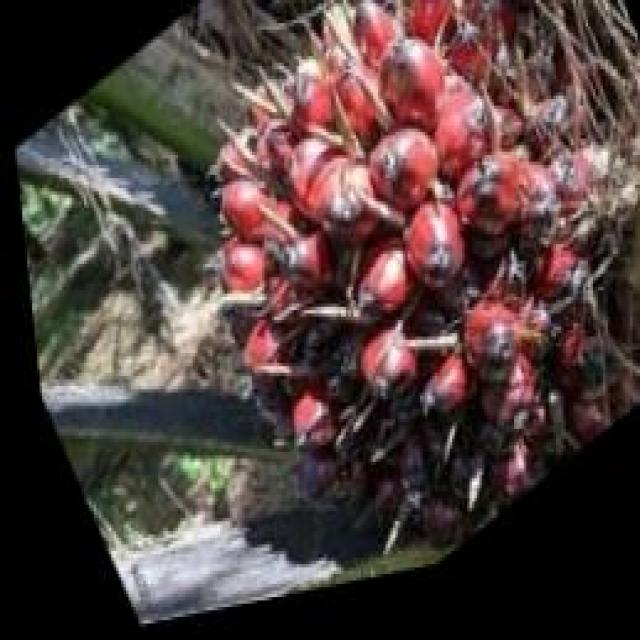Ripefruit: (104, 0, 640, 624)
